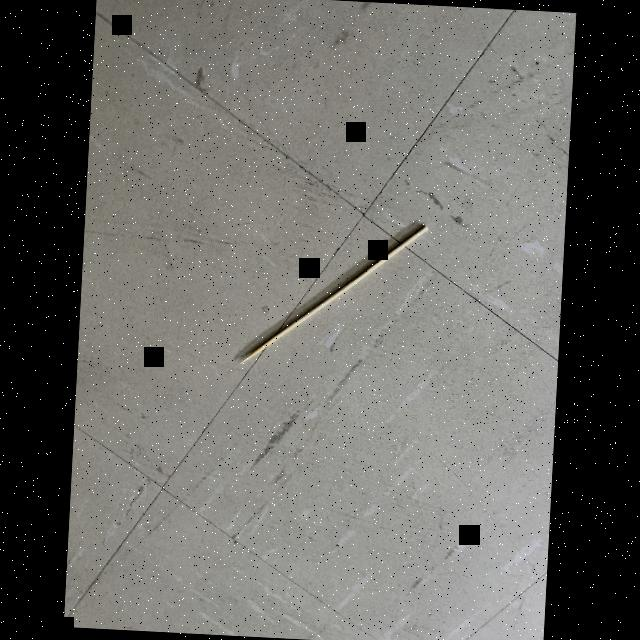stick: (230, 202, 438, 385)
